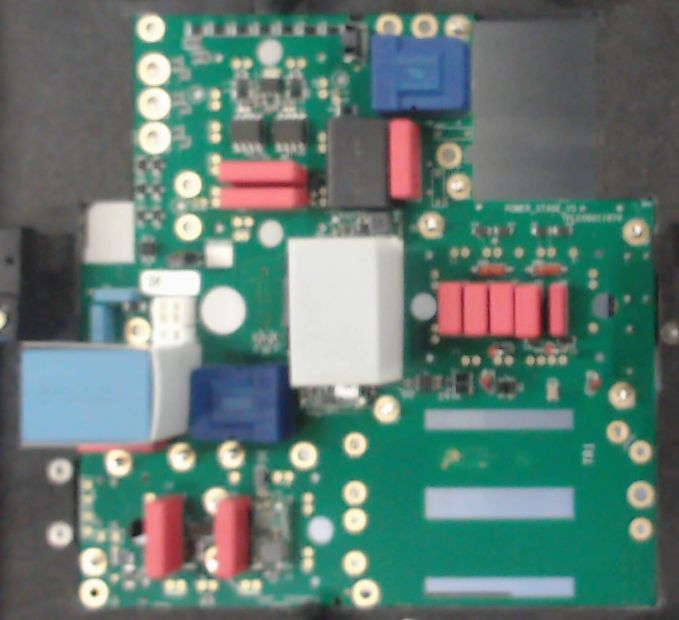comp1: (368, 33, 473, 117), (189, 367, 297, 442)
comp2: (142, 495, 183, 580), (389, 118, 423, 204), (215, 497, 249, 578), (217, 160, 310, 186), (219, 185, 308, 210), (488, 281, 515, 340), (462, 282, 488, 340), (514, 282, 540, 340), (438, 281, 463, 340), (547, 282, 569, 340)
comp3: (325, 116, 391, 208)
comp4: (16, 340, 205, 448), (285, 236, 409, 387)
